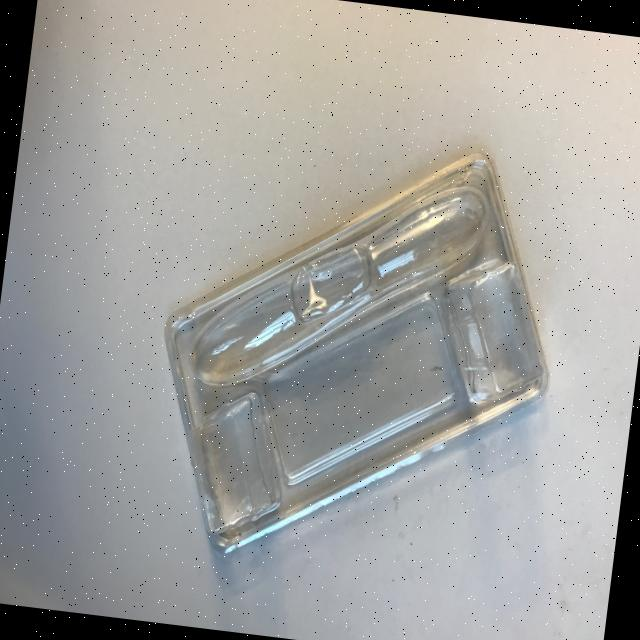plastic: (138, 115, 576, 590)
